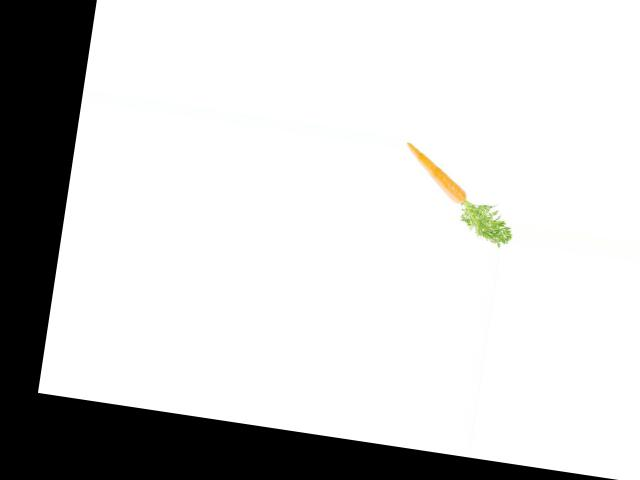carrot: (397, 139, 481, 207)
